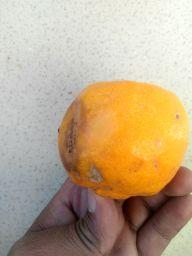Unripe: (56, 81, 190, 198)
